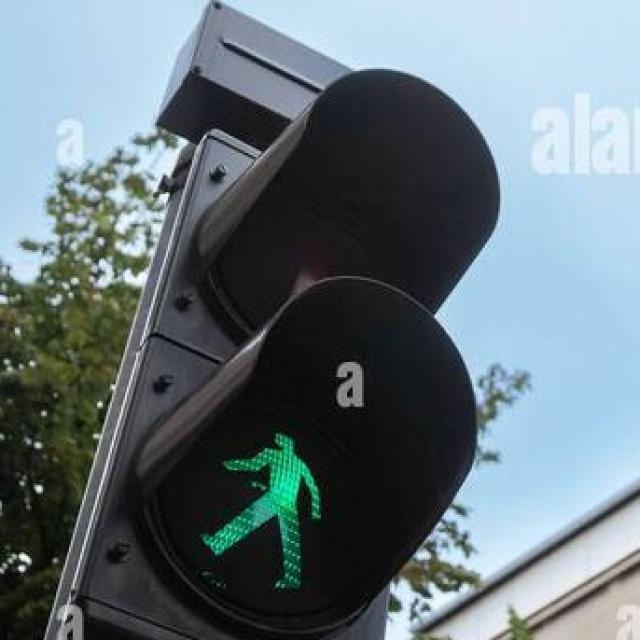geen-crossing: (213, 404, 321, 596)
